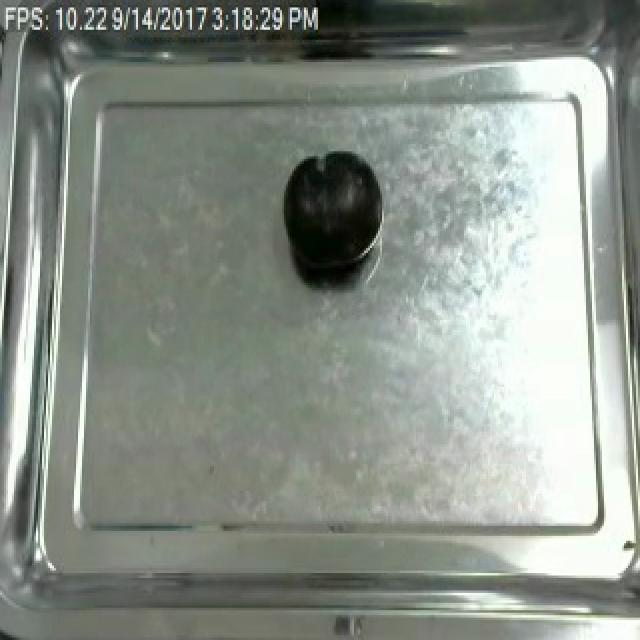Fruit: (278, 149, 382, 280)
